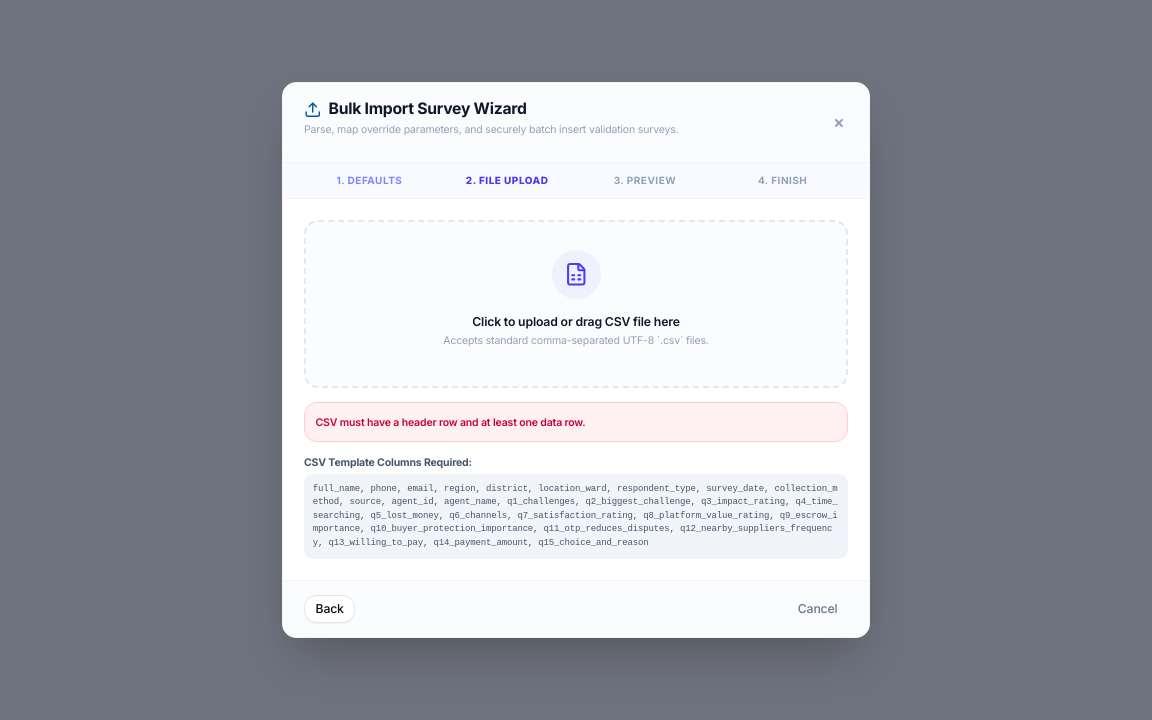
it: ValidationSurveysImportWizard › step navigation › returns from File Upload to Defaults via Back, clearing any error
Earlier steps of the test are not shown.
Later steps or results of the test are not shown.
Expected: the text "CSV must have a header row and at least one data row." is shown, [304,402,848,442]
Click the button "Back" at (330, 609), box [304,595,355,623]
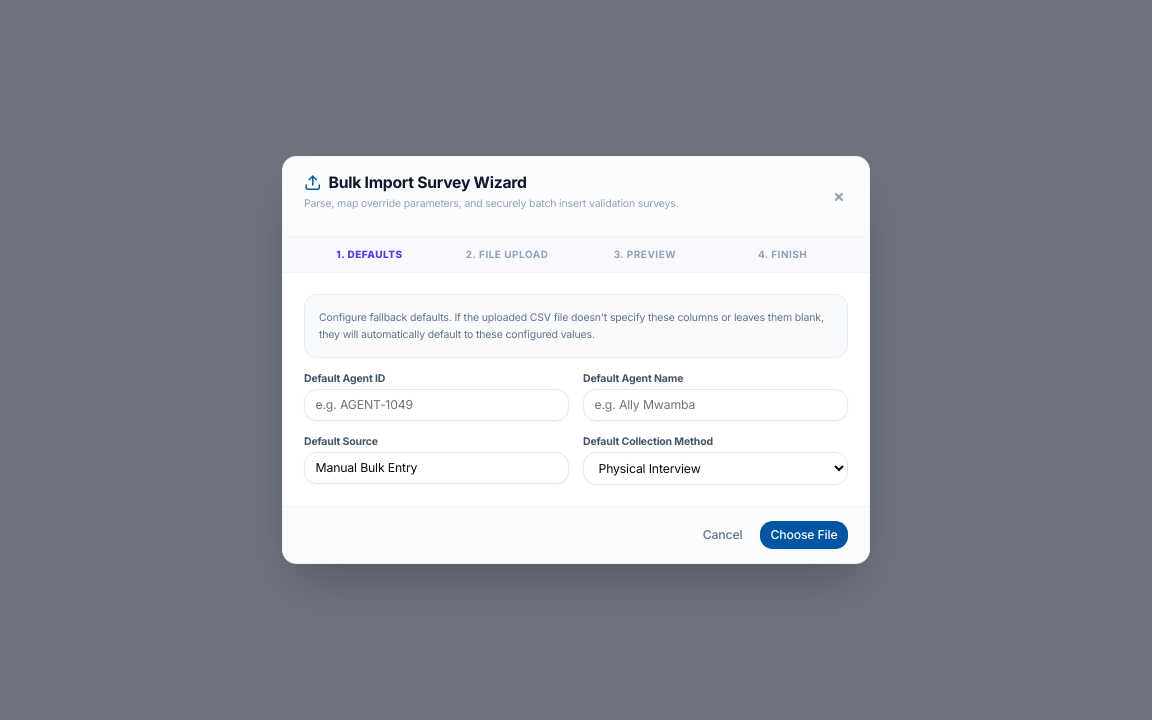
Expected: the field showing "Manual Bulk Entry" is shown, [304,452,569,484]
